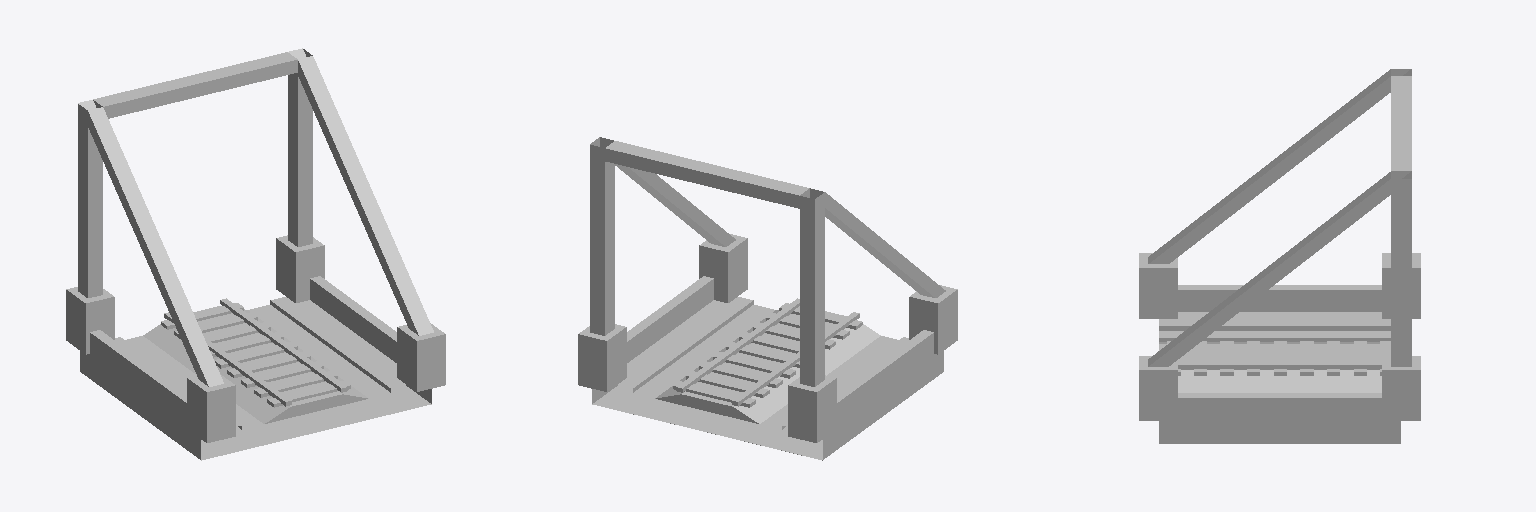
The model's file is SM_Env_Track_Raised_Bridge_End_01.obj.
The picture shows the model from 3 angles: view 1: azimuth 30°, elevation 25°; view 2: azimuth 150°, elevation 25°; view 3: azimuth 270°, elevation 25°; orthographic projection.
Visible parts, largest first — view 1: SM_Env_Track_Raised_Bridge_End_01:Mesh; view 2: SM_Env_Track_Raised_Bridge_End_01:Mesh; view 3: SM_Env_Track_Raised_Bridge_End_01:Mesh.
Part boxes in pixels (bbox=[...]): SM_Env_Track_Raised_Bridge_End_01:Mesh: bbox=[66, 48, 445, 460]; SM_Env_Track_Raised_Bridge_End_01:Mesh: bbox=[578, 137, 957, 460]; SM_Env_Track_Raised_Bridge_End_01:Mesh: bbox=[1139, 69, 1420, 443].
Bounding box in the file's own units: 11.37 × 12.03 × 11.6.